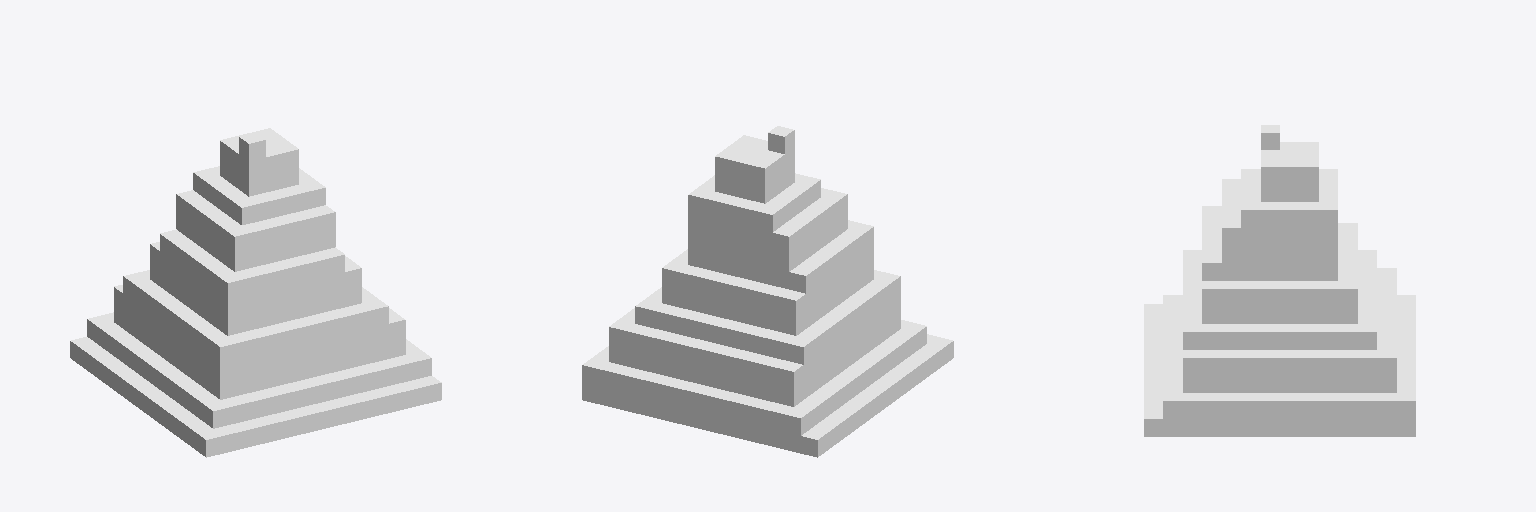
The model's file is obstacle1-2-spike1.obj.
3 views of the same model, side by side, from view 1: azimuth 30°, elevation 25°; view 2: azimuth 150°, elevation 25°; view 3: azimuth 270°, elevation 25° (orthographic).
Parts seen in each view (by area): view 1: spike1; view 2: spike1; view 3: spike1.
Boxes of the visible parts, x1=… form: spike1: x1=70, y1=128, x2=441, y2=457; spike1: x1=582, y1=126, x2=953, y2=457; spike1: x1=1144, y1=125, x2=1415, y2=436.
Size of the model in its own units: 1.4 by 1.4 by 1.4.